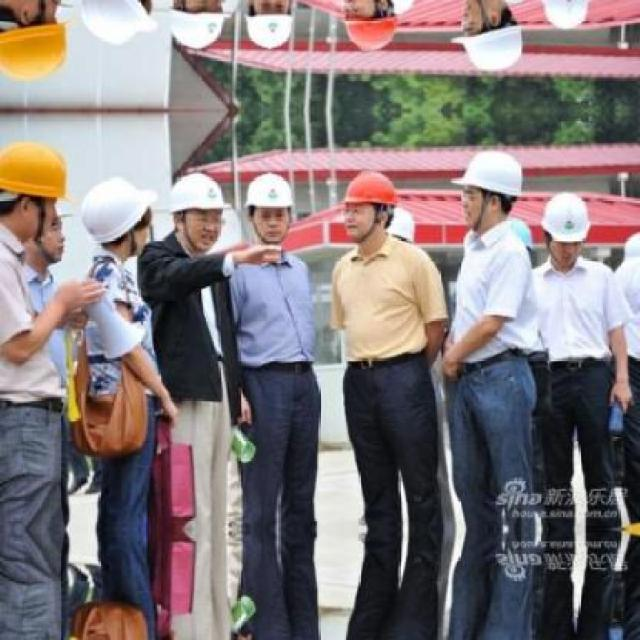helmet: (1, 134, 76, 241), (0, 0, 77, 86), (81, 176, 152, 264), (457, 144, 525, 228), (160, 168, 228, 247), (457, 0, 526, 75), (339, 165, 399, 241), (240, 168, 298, 244), (539, 186, 590, 269), (160, 0, 229, 51), (338, 0, 400, 54), (81, 0, 154, 45), (240, 0, 300, 51), (538, 0, 591, 34)
